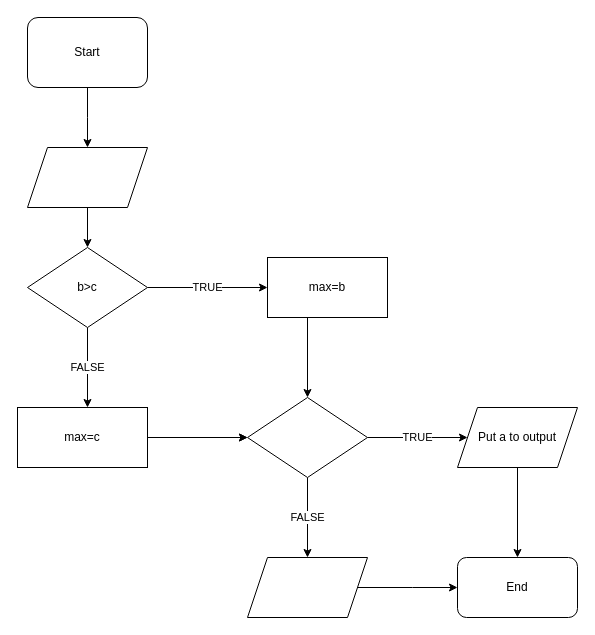
Image size: 595x635. Some labels were removed from this diagram. Here are the shapes that lost their labels. From the top down, the centre of each, then its label:
[87,177]: Input a,b,c
[307,437]: a>max
[307,587]: Put max to output
